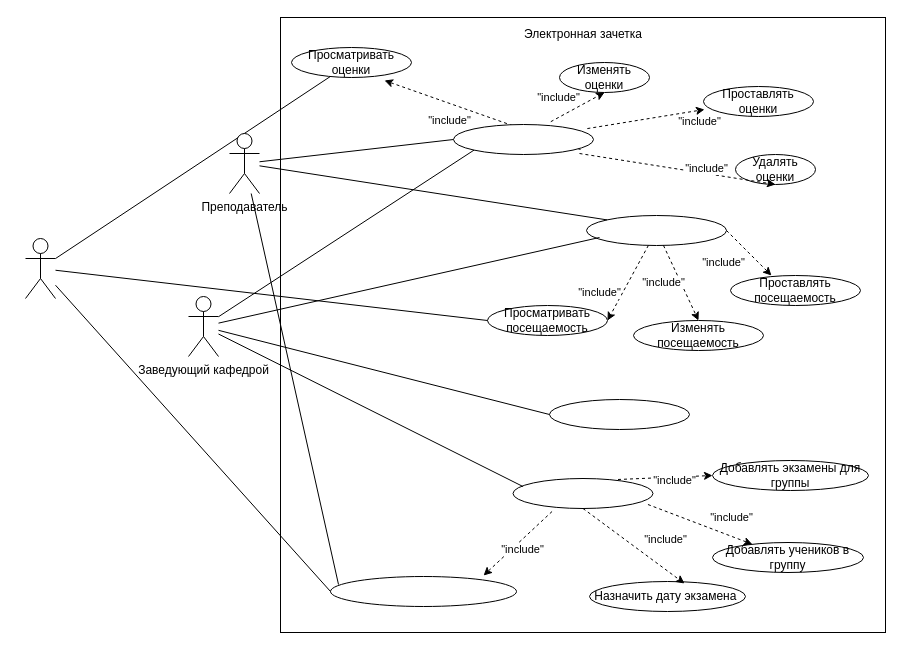
This 903x650 diagram has some shape labels left out. Here are the shapes that lost their labels. From the top down, the centre of each, then its label:
[523,139]: Взаимодействие с оценками
[656,230]: Взаимодействие с посещамостью
[40,268]: Студент
[619,414]: Добавить предмет
[582,493]: Взаимодействие с группами
[423,591]: Просматривать сдаваемые предметы
